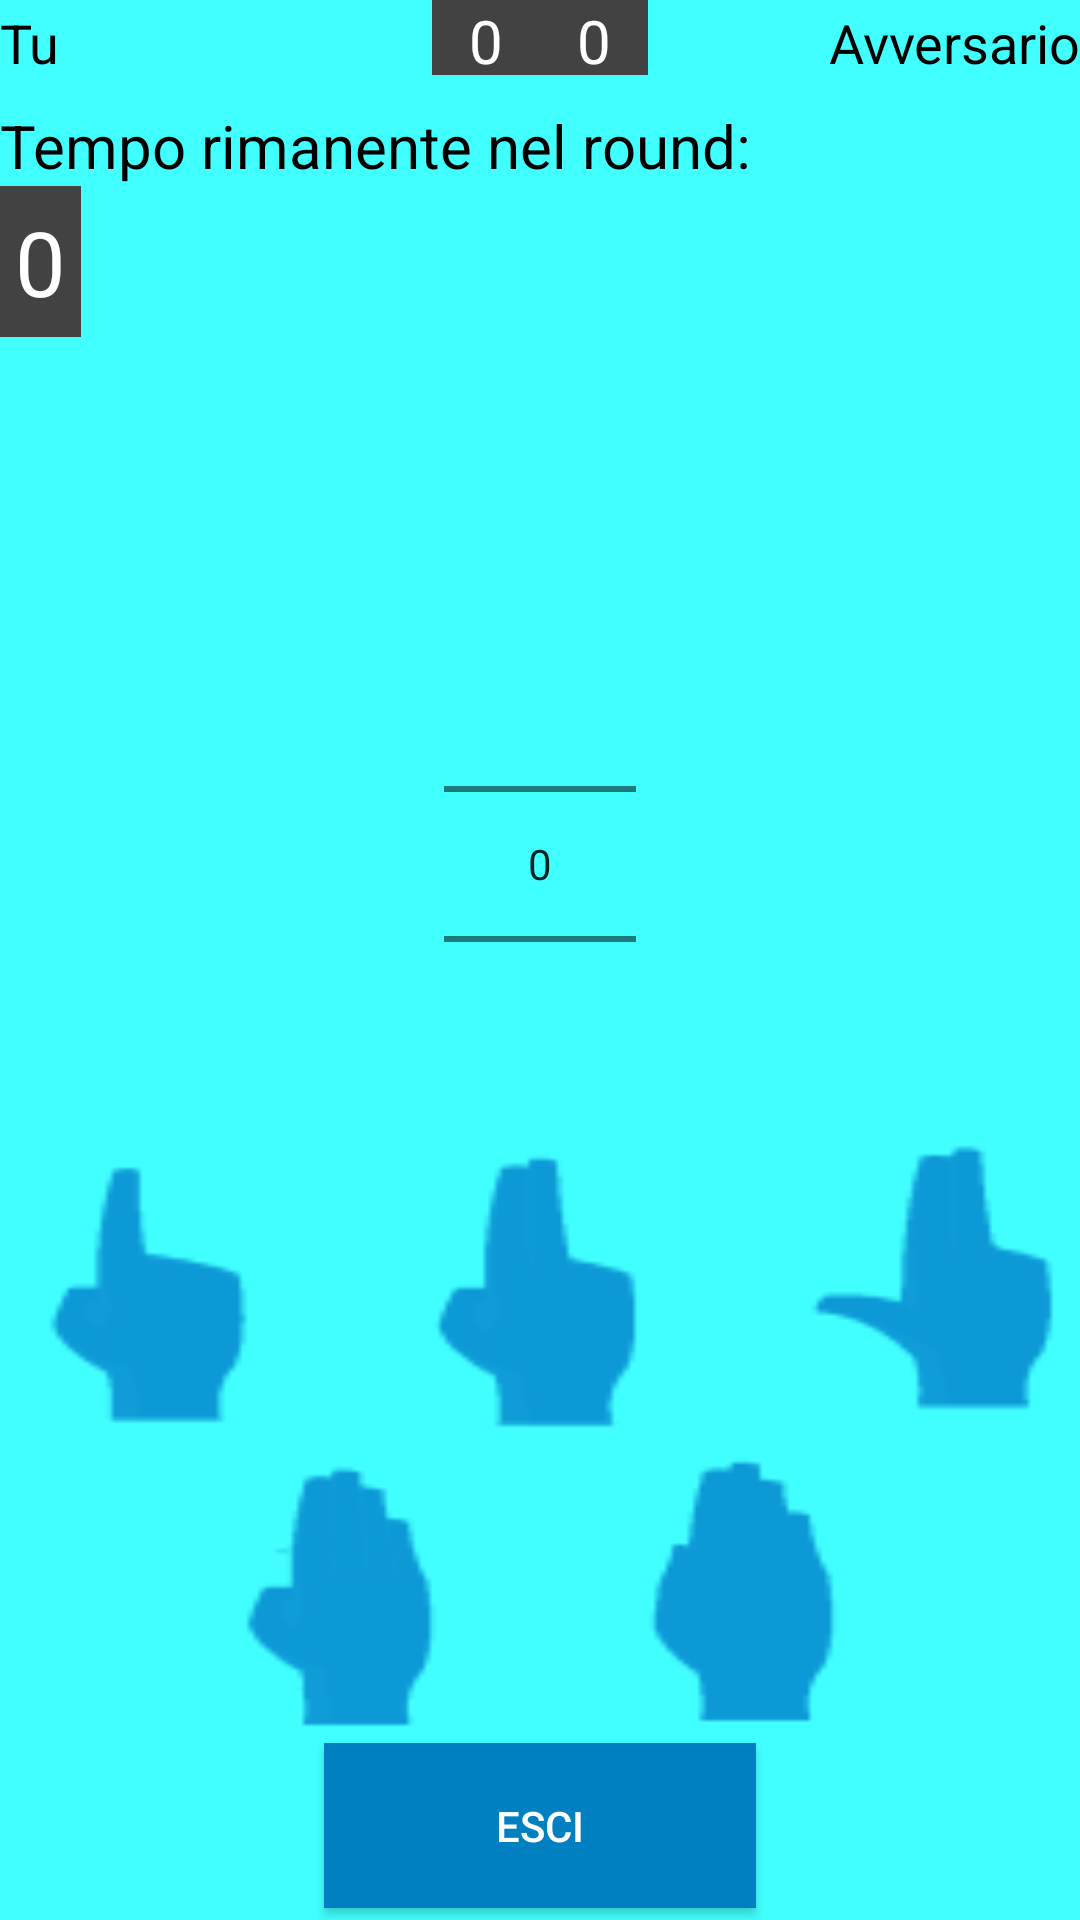

Screen size 1080px×1920px. Icon name, then its center in pixels as (x=x, y=y):
mano cinque: (x=743, y=1592)
mano due: (x=537, y=1292)
mano quattro: (x=339, y=1597)
